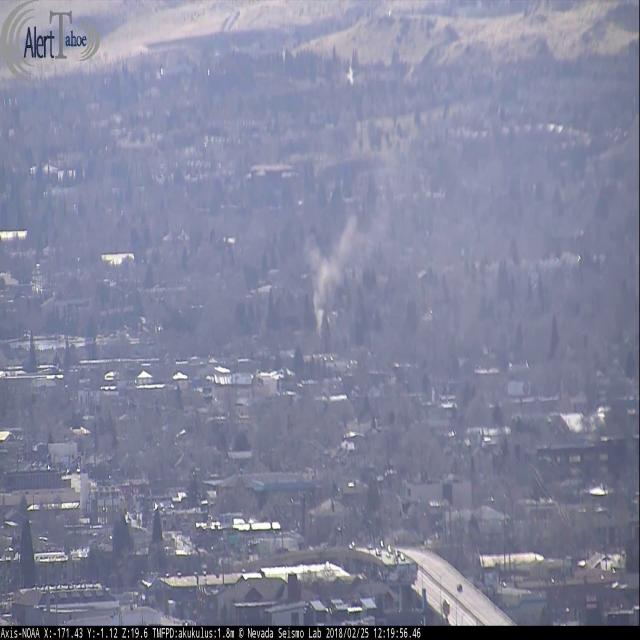smoke: (300, 196, 395, 347)
